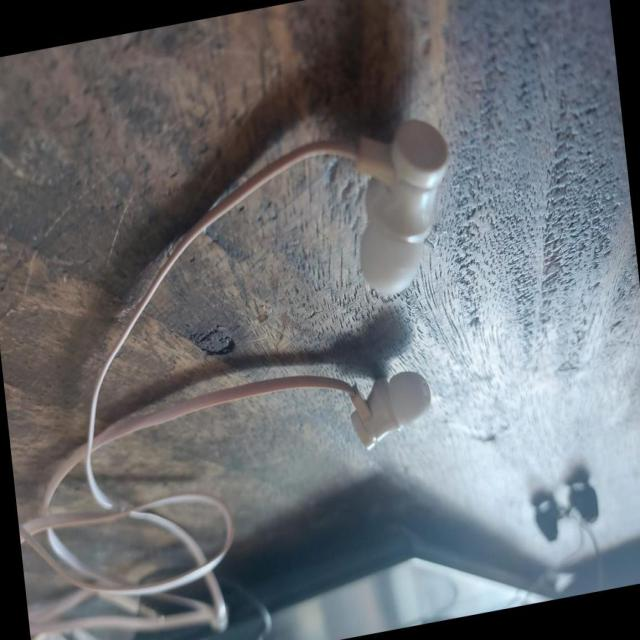earphone: (47, 85, 482, 548)
